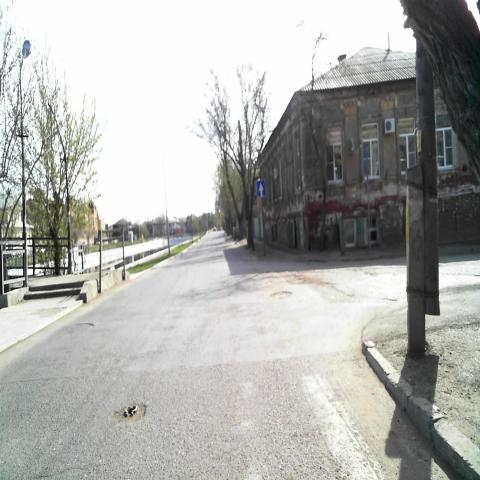5_5: (256, 178, 264, 196)
